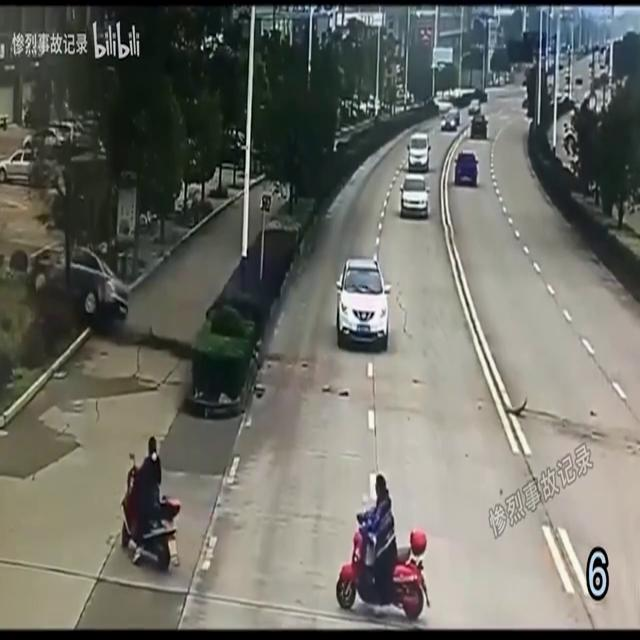accident: (4, 240, 270, 402)
non-accident: (1, 122, 88, 188), (398, 134, 434, 220), (440, 100, 490, 140)
